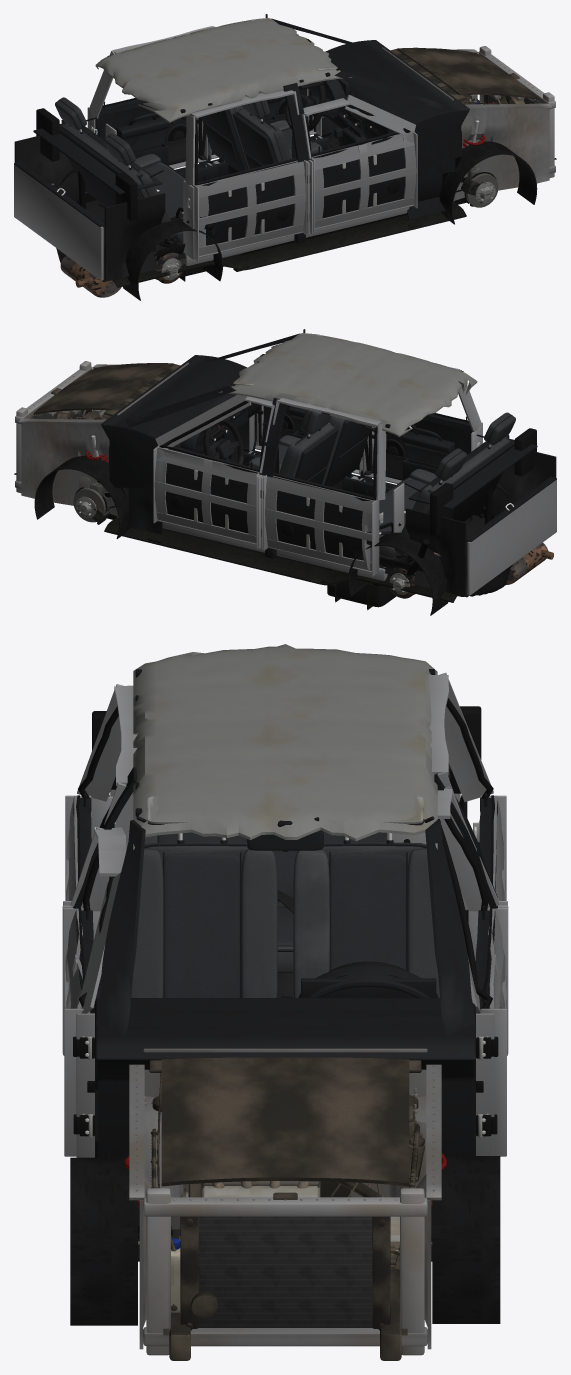
File: tupiniquim_completo.glb
The picture shows the model from 3 angles, top to bottom: view 1: azimuth 30°, elevation 25°; view 2: azimuth 150°, elevation 25°; view 3: azimuth 270°, elevation 25°; orthographic projection. The views are drawn at different scales.
Visible parts, largest first — view 1: interior_forro_teto, interior_portamalas_carpete, interior_painel, door_card_rr_chapa, engine_paralama_interno_dir, interior_banco_traseiro, door_card_fr_chapa, under_assoalho, hood_manta, door_card_rr, door_card_rl, door_card_fr (+24 smaller); view 2: interior_forro_teto, interior_portamalas_carpete, interior_painel, door_card_rl_chapa, engine_paralama_interno_esq, door_card_fl_chapa, interior_banco_traseiro, under_assoalho, hood_manta, door_card_rr, door_card_rl, door_card_fl (+27 smaller); view 3: interior_forro_teto, hood_manta, interior_painel, engine_radiador, interior_banco_dianteiro_dir, interior_banco_dianteiro_esq, engine_travessa, interior_acabamento_colunas, under_caixa_roda_fl, under_caixa_roda_fr, jamb_fr_colunas, jamb_fl_colunas (+23 smaller).
Boxes of the visible parts, x1,y1,x2,y2 form: interior_forro_teto: (95, 19, 352, 122); interior_portamalas_carpete: (14, 136, 165, 282); interior_painel: (307, 40, 469, 173); door_card_rr_chapa: (192, 160, 307, 261); engine_paralama_interno_dir: (454, 98, 552, 200); interior_banco_traseiro: (55, 97, 185, 247); door_card_fr_chapa: (310, 131, 417, 233); under_assoalho: (102, 202, 466, 287); hood_manta: (397, 47, 537, 101); door_card_rr: (195, 157, 298, 245); door_card_rl: (96, 98, 198, 164); door_card_fr: (311, 132, 404, 218); interior_forro_teto: (218, 334, 477, 436); interior_portamalas_carpete: (405, 451, 556, 597); interior_painel: (101, 355, 260, 488); door_card_rl_chapa: (263, 475, 382, 576); engine_paralama_interno_esq: (18, 413, 116, 515); door_card_fl_chapa: (153, 445, 260, 548); interior_banco_traseiro: (379, 412, 515, 561); under_assoalho: (104, 517, 468, 602); hood_manta: (33, 363, 173, 416); door_card_rr: (372, 413, 472, 479); door_card_rl: (272, 473, 375, 560); door_card_fl: (164, 446, 259, 533); interior_forro_teto: (133, 644, 437, 850); hood_manta: (161, 1057, 409, 1186); interior_painel: (95, 965, 475, 1157); engine_radiador: (180, 1216, 390, 1330); interior_banco_dianteiro_dir: (131, 833, 277, 997); interior_banco_dianteiro_esq: (293, 833, 439, 997); engine_travessa: (143, 1182, 427, 1355); interior_acabamento_colunas: (73, 767, 497, 1035); under_caixa_roda_fl: (432, 1156, 500, 1323); under_caixa_roda_fr: (70, 1157, 137, 1325); jamb_fr_colunas: (62, 827, 126, 1157); jamb_fl_colunas: (437, 786, 508, 1155).
Size of what is drawn, in the model's own units: 3.59 by 1.43 by 1.45.
Materials: 54 (54 with a texture image).
